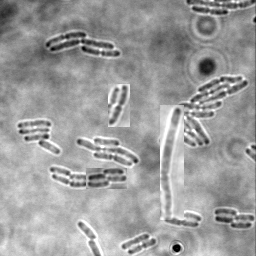Dividing: (160, 105, 184, 220), (108, 84, 130, 127), (128, 238, 157, 255), (52, 175, 86, 189), (166, 209, 202, 222), (164, 217, 200, 228), (192, 7, 229, 17)
Microcolony: (158, 76, 249, 147), (76, 137, 139, 168), (45, 32, 121, 57), (18, 120, 61, 155), (214, 208, 255, 229), (86, 168, 127, 189)
Rod: (121, 233, 150, 251), (78, 222, 99, 240), (50, 167, 72, 177), (69, 174, 86, 183)
